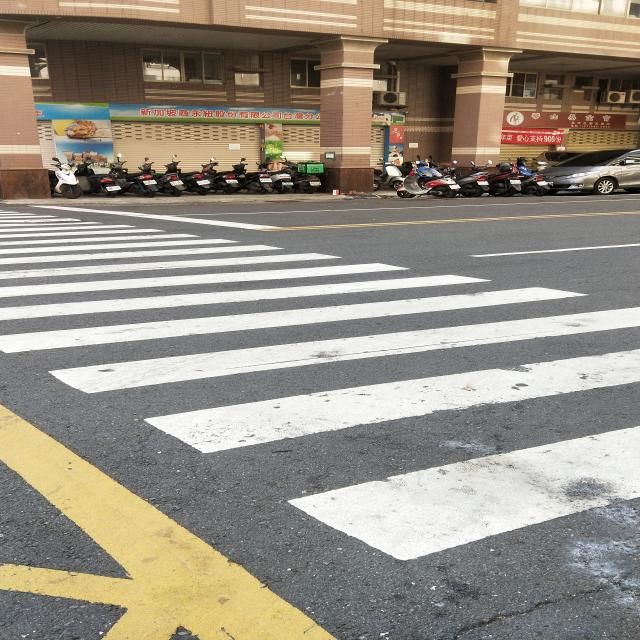zebra crossing: (0, 204, 640, 559)
